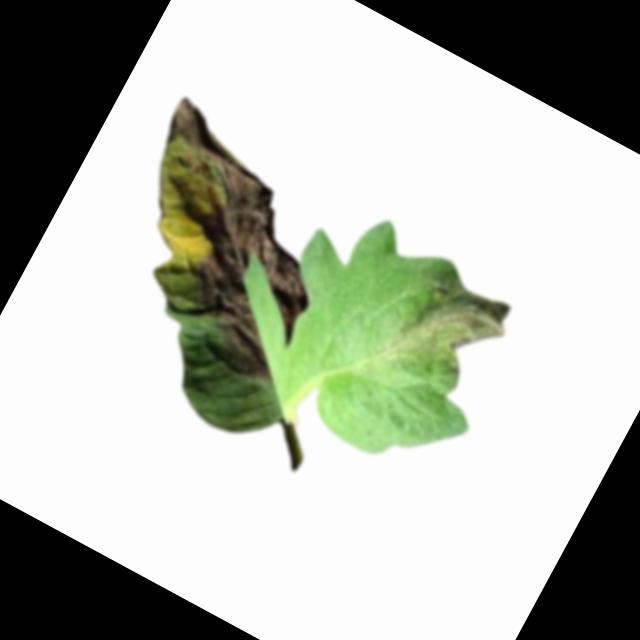Late_blight: (78, 94, 368, 388), (381, 258, 522, 401)
